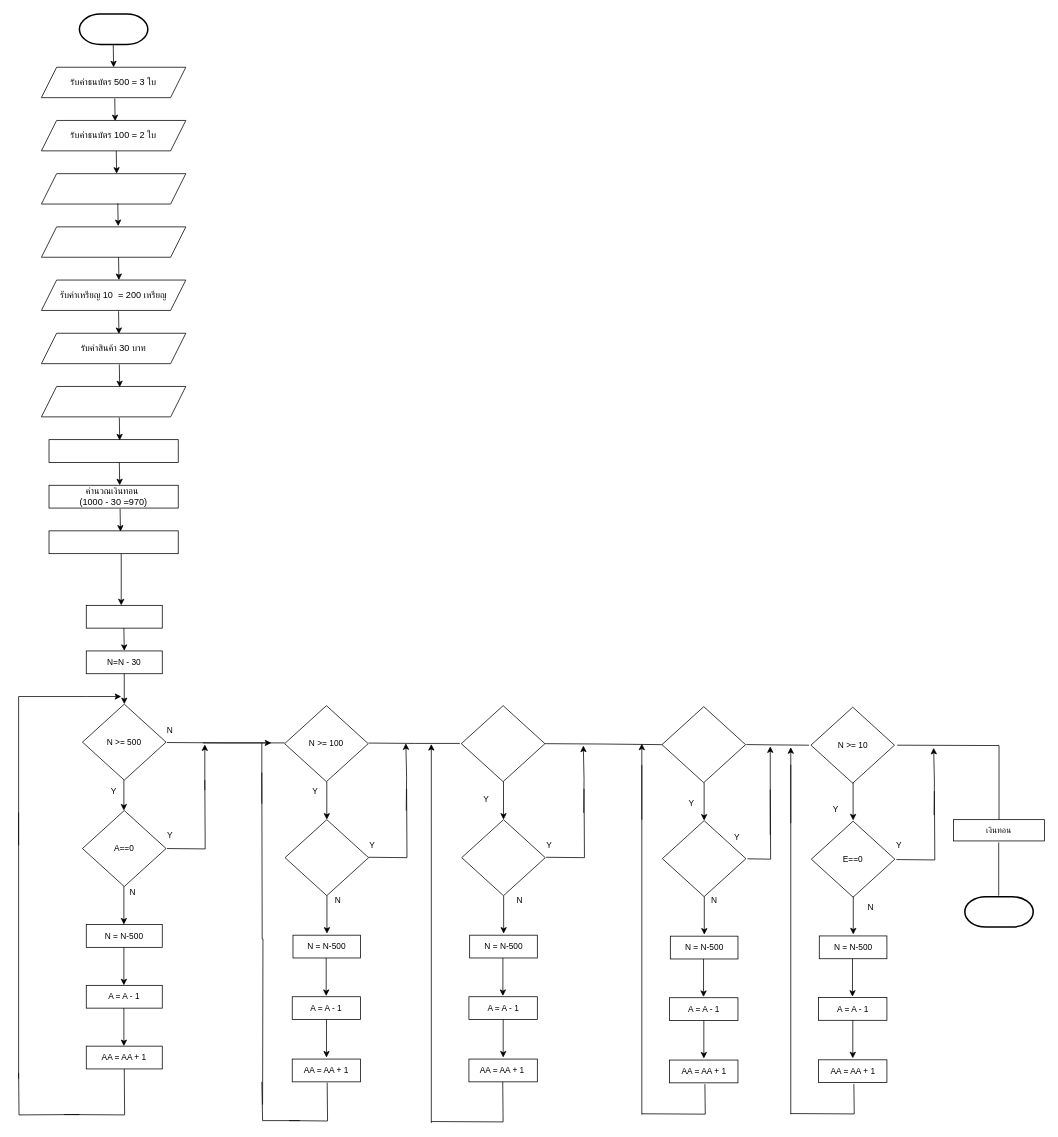
Some shapes in this 1058 by 1137 pixel diagram are drawn without their labels. The shapes that lost their labels are listed below. From the top down, each one's box as (x1, y1, x2, y2) in pixels, then its label:
(78, 13, 148, 45): start
(41, 173, 186, 204): รับค่าธนบัตร 50 = 3 ใบ
(41, 226, 186, 257): รับค่าธนบัตร 20 = 100 ใบ
(41, 386, 186, 417): รับค่าเงิน 1000 บาท
(48, 439, 178, 462): ตรวจสอบราคาสินค้า 30 บาท
(48, 530, 178, 554): คำนวณเงินทอน
(86, 605, 162, 628): N= 1000
(461, 705, 545, 782): N >= 50
(661, 706, 746, 783): N >= 20
(284, 819, 369, 896): B==0
(461, 819, 545, 896): C==0
(662, 820, 746, 897): D==0
(964, 896, 1034, 927): END
